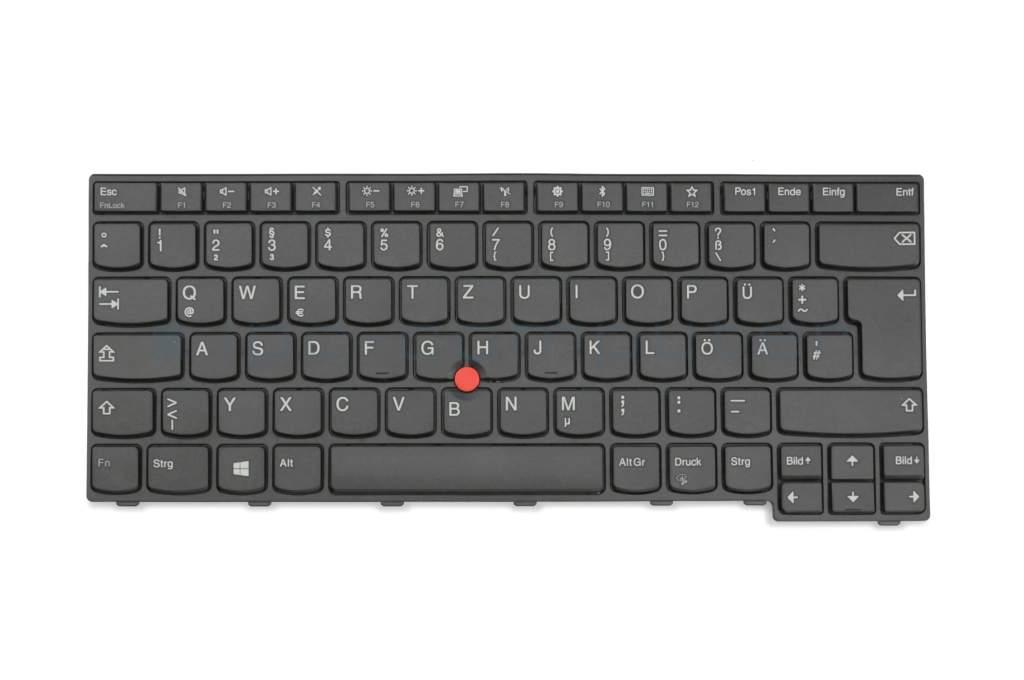0: (648, 219, 699, 267)
1: (147, 220, 196, 267)
2: (201, 219, 252, 268)
3: (256, 219, 308, 268)
4: (314, 219, 364, 267)
5: (369, 219, 420, 268)
6: (425, 219, 476, 267)
7: (482, 220, 532, 267)
8: (537, 220, 588, 267)
9: (592, 219, 644, 268)
a: (188, 330, 237, 379)
accent: (760, 219, 810, 267)
ae: (748, 330, 797, 379)
alt-left: (270, 441, 322, 492)
altgr-right: (608, 440, 661, 492)
b: (439, 385, 492, 435)
c: (327, 385, 379, 435)
caret: (90, 219, 140, 267)
comma: (608, 384, 659, 435)
d: (299, 329, 350, 380)
del: (815, 220, 921, 268)
e: (285, 275, 336, 324)
enter: (846, 273, 922, 380)
f: (355, 329, 406, 379)
g: (412, 329, 461, 379)
h: (466, 330, 518, 378)
hash: (802, 330, 852, 379)
i: (566, 274, 616, 323)
j: (524, 329, 574, 379)
k: (580, 329, 630, 379)
keyboard: (85, 173, 929, 519)
l: (636, 329, 686, 379)
less: (158, 385, 210, 435)
m: (551, 385, 604, 435)
minus: (719, 385, 771, 434)
n: (496, 385, 547, 435)
o: (621, 274, 673, 324)
oe: (692, 329, 742, 380)
p: (677, 274, 728, 324)
plus: (787, 274, 838, 323)
point: (664, 385, 715, 434)
q: (172, 274, 225, 324)
r: (342, 274, 392, 324)
s: (243, 330, 294, 380)
shift-left: (88, 386, 153, 435)
shift-lock: (90, 330, 183, 380)
shift-right: (776, 384, 924, 434)
space: (327, 441, 607, 494)
ss: (704, 220, 754, 267)
strg-left: (142, 441, 211, 493)
strg-right: (720, 440, 773, 491)
t: (398, 274, 448, 323)
tab: (90, 275, 168, 324)
u: (510, 274, 560, 324)
ue: (733, 274, 783, 324)
v: (384, 385, 435, 435)
w: (230, 274, 280, 323)
x: (271, 385, 322, 435)
y: (216, 386, 266, 435)
z: (454, 273, 504, 324)
